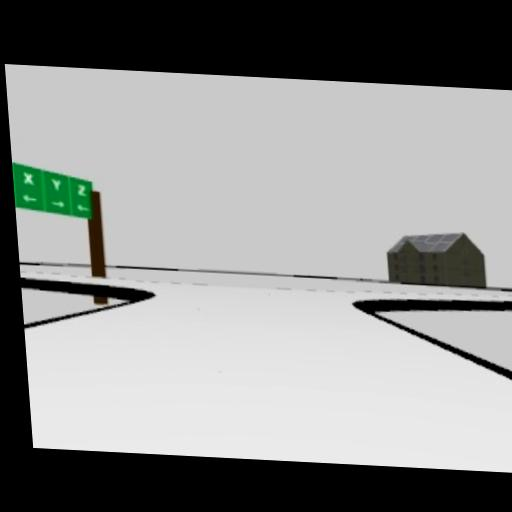Left: (23, 193, 38, 202), (78, 206, 88, 213)
Right: (52, 199, 64, 208)
X: (22, 172, 36, 185)
Y: (52, 177, 63, 192)
Z: (76, 184, 87, 197)
